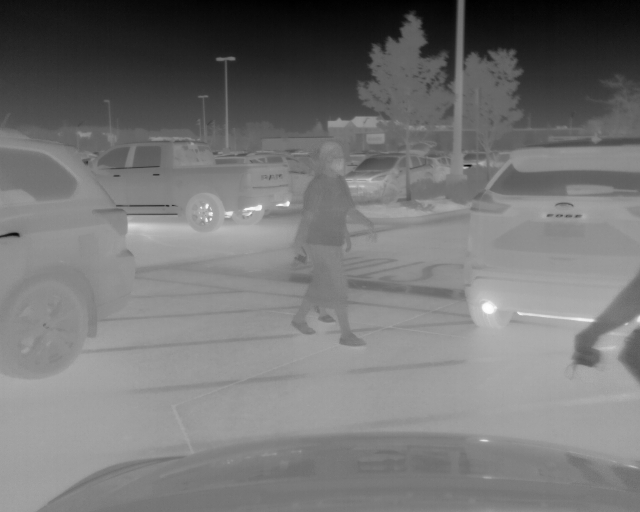car: (461, 138, 640, 331), (1, 128, 136, 382), (91, 138, 293, 233), (220, 152, 316, 223), (344, 150, 448, 205), (461, 149, 491, 175)
people: (290, 143, 380, 349), (574, 263, 640, 387)
